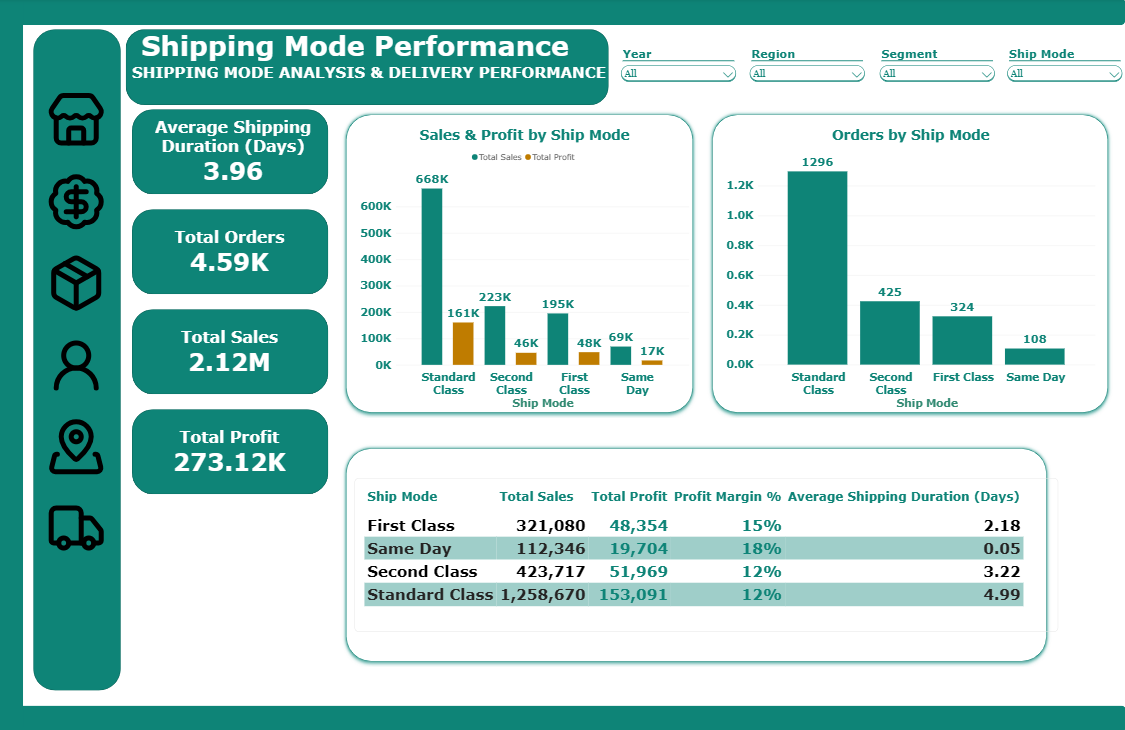

The page's visual inventory and layout, read from the dashboard file:
{"tool":"powerbi","page":{"name":"06 Shipping Mode Performance","canvas":[2000,1300],"ordinal":5},"visuals":[{"type":"shape","box":[0,0,1999.7,48.2],"z":0},{"type":"shape","box":[228.4,55.6,855.8,134.4],"z":0,"group":"g2"},{"type":"textbox","box":[238.7,55.9,870.7,119.6],"z":1000,"group":"g2"},{"type":"group","id":"g1","title":"Group 2","box":[238.7,197.2,347.8,150.6],"z":1000},{"type":"shape","box":[0,1253.9,2000.5,46.5],"z":2000},{"type":"shape","box":[0,0,46.5,1300.5],"z":3000},{"type":"shape","box":[238.7,197.2,347.8,150.6],"z":3000,"group":"g1"},{"type":"shape","box":[238.7,374.4,347.8,150.6],"z":3000,"group":"g3"},{"type":"shape","box":[238.7,551.6,347.8,150.6],"z":3000,"group":"g4"},{"type":"shape","box":[238.7,728.9,347.8,150.6],"z":3000,"group":"g5"},{"type":"shape","box":[64.2,55.4,155.1,1172],"z":4000},{"type":"shape","box":[609.2,788.7,1260.6,396.6],"z":5000},{"type":"group","id":"g2","title":"Group 1","box":[228.4,55.6,880.9,134.4],"z":6000},{"type":"slicer","fields":{"Values":["Sales.Ship Date.Variation.Date Hierarchy.Year"]},"box":[1101.1,86.4,213.9,71.9],"z":7000},{"type":"slicer","fields":{"Values":["Sales.Category"]},"box":[1558.9,86.4,213.9,71.9],"z":8000},{"type":"slicer","fields":{"Values":["Sales.Region"]},"box":[1330,86.4,213.9,71.9],"z":9000},{"type":"group","id":"g3","title":"Group 2","box":[238.7,374.4,347.8,150.6],"z":10000},{"type":"group","id":"g4","title":"Group 2","box":[238.7,551.6,347.8,150.6],"z":11000},{"type":"cardVisual","fields":{"Data":["Page6 Measures.Average Shipping Duration (Days)"]},"box":[255.8,203.5,323.5,137.4],"z":11001,"group":"g1"},{"type":"cardVisual","fields":{"Data":["Page1 Measures.Total Orders"]},"box":[276,382.7,270.9,134.7],"z":11001,"group":"g3"},{"type":"cardVisual","fields":{"Data":["Page1 Measures.Total Sales"]},"box":[276,559.9,270.9,134.7],"z":11001,"group":"g4"},{"type":"cardVisual","fields":{"Data":["Page1 Measures.Total Profit"]},"box":[276,737.2,270.9,134.7],"z":11001,"group":"g5"},{"type":"shape","box":[609.2,197.2,633.6,547.2],"z":12000},{"type":"slicer","fields":{"Values":["Sales.Ship Mode"]},"box":[1786.1,86.4,213.9,71.9],"z":13000},{"type":"lineClusteredColumnComboChart","title":"Sales & Profit by Ship Mode","fields":{"Category":["Sales.Ship Mode"],"Y":["Page1 Measures.Total Sales","Page1 Measures.Total Profit"]},"box":[627,212.7,615.9,531.7],"z":14000},{"type":"shape","box":[1258.4,197.2,720,547.2],"z":15000},{"type":"lineClusteredColumnComboChart","title":"Orders by Ship Mode","fields":{"Category":["Sales.Ship Mode"],"Y":["Page1 Measures.Total Orders"]},"box":[1276.1,212.7,686.8,531.7],"z":16000},{"type":"image","box":[86.4,163.9,108.6,106.2],"z":17000,"group":"g6"},{"type":"tableEx","title":"Product Details Table","fields":{"Values":["Sales.Ship Mode","Page1 Measures.Total Sales","Page1 Measures.Total Profit","Page1 Measures.Profit Margin %","Page6 Measures.Average Shipping Duration (Days)"]},"box":[633.6,850.7,1247.3,272.5],"z":17000},{"type":"image","box":[86.4,308.4,108.6,106.2],"z":18000,"group":"g6"},{"type":"group","id":"g5","title":"Group 2","box":[238.7,728.9,347.8,150.6],"z":18000},{"type":"group","id":"g6","title":"Group 7","box":[86.4,163.9,108.6,828.6],"z":18001},{"type":"image","box":[86.4,452.8,108.6,106.2],"z":19000,"group":"g6"},{"type":"image","box":[86.4,597.3,108.6,106.2],"z":20000,"group":"g6"},{"type":"image","box":[86.4,741.8,108.6,106.2],"z":21000,"group":"g6"},{"type":"image","box":[86.4,886.2,108.6,106.2],"z":22000,"group":"g6"}]}

Visuals, with their boxes in screenshot pixels (x1, y1, x2, y2), scaled from the page's 2000x1300 canvas onto the 1125x730 screenshot:
shape: 0/0/1124/27
shape: 128/31/610/107
textbox: 134/31/624/99
"Group 2" group: 134/111/330/195
shape: 0/704/1124/729
shape: 0/0/26/729
shape: 134/111/330/195
shape: 134/210/330/295
shape: 134/310/330/394
shape: 134/409/330/494
shape: 36/31/123/689
shape: 343/443/1052/666
"Group 1" group: 128/31/624/107
slicer - Sales.Ship Date.Variation.Date Hierarchy.Year: 619/49/740/89
slicer - Sales.Category: 877/49/997/89
slicer - Sales.Region: 748/49/868/89
"Group 2" group: 134/210/330/295
"Group 2" group: 134/310/330/394
cardVisual - Page6 Measures.Average Shipping Duration (Days): 144/114/326/191
cardVisual - Page1 Measures.Total Orders: 155/215/308/291
cardVisual - Page1 Measures.Total Sales: 155/314/308/390
cardVisual - Page1 Measures.Total Profit: 155/414/308/490
shape: 343/111/699/418
slicer - Sales.Ship Mode: 1005/49/1124/89
"Sales & Profit by Ship Mode" lineClusteredColumnComboChart: 353/119/699/418
shape: 708/111/1113/418
"Orders by Ship Mode" lineClusteredColumnComboChart: 718/119/1104/418
image: 49/92/110/152
"Product Details Table" tableEx: 356/478/1058/631
image: 49/173/110/233
"Group 2" group: 134/409/330/494
"Group 7" group: 49/92/110/557
image: 49/254/110/314
image: 49/335/110/395
image: 49/417/110/476
image: 49/498/110/557
